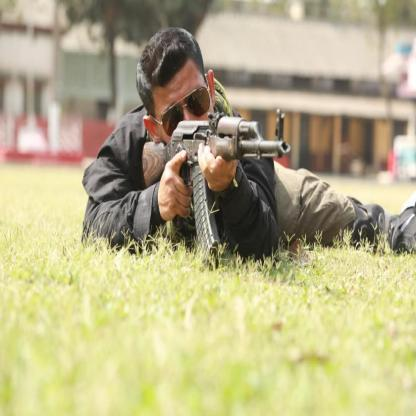rifle: (140, 106, 292, 274)
